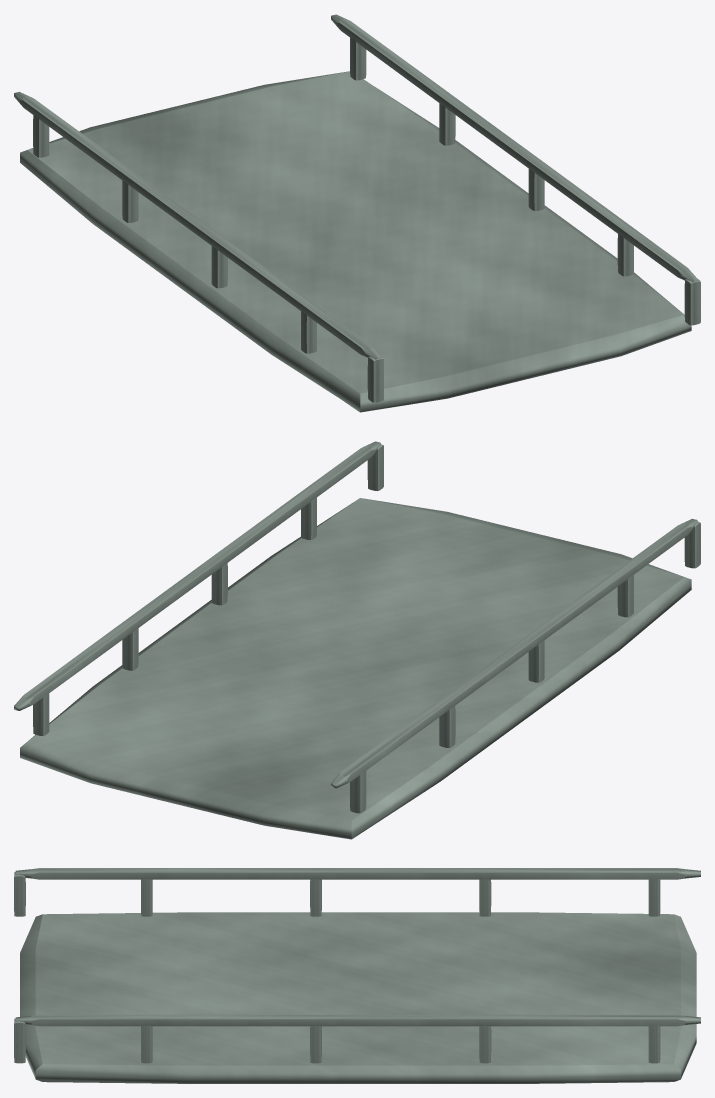
Rendered from small_bridge.glb.
3 renders of one model, top to bottom at view 1: azimuth 30°, elevation 25°; view 2: azimuth 150°, elevation 25°; view 3: azimuth 270°, elevation 25°, orthographic. The views are drawn at different scales.
Parts seen in each view (by area): view 1: static_stone; view 2: static_stone; view 3: static_stone.
Boxes of the visible parts, box(x1,y1,x2,y2) form: static_stone: box(14, 14, 700, 412); static_stone: box(14, 441, 700, 839); static_stone: box(14, 868, 700, 1083).
Bounding box in the file's own units: 9 × 1.67 × 16.24.
1 material, 1 textured.
